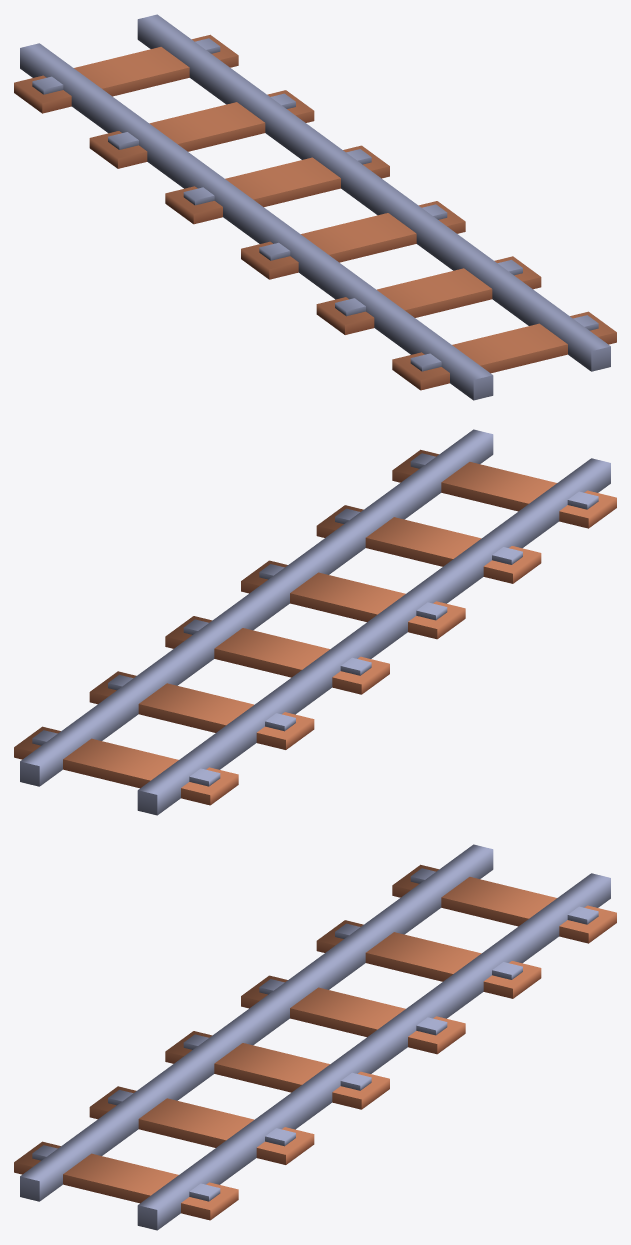
The model's file is railroad-straight.glb.
3 views of the same model, one above another, from view 1: azimuth 30°, elevation 25°; view 2: azimuth 150°, elevation 25°; view 3: azimuth 330°, elevation 25° (orthographic).
Visible parts, largest first — view 1: railroad-straight; view 2: railroad-straight; view 3: railroad-straight.
Boxes of the visible parts, x1,y1,x2,y2 form: railroad-straight: (14,14,616,400); railroad-straight: (14,429,616,815); railroad-straight: (14,844,616,1230).
Size of the model in its own units: 1 by 0.1 by 4.
